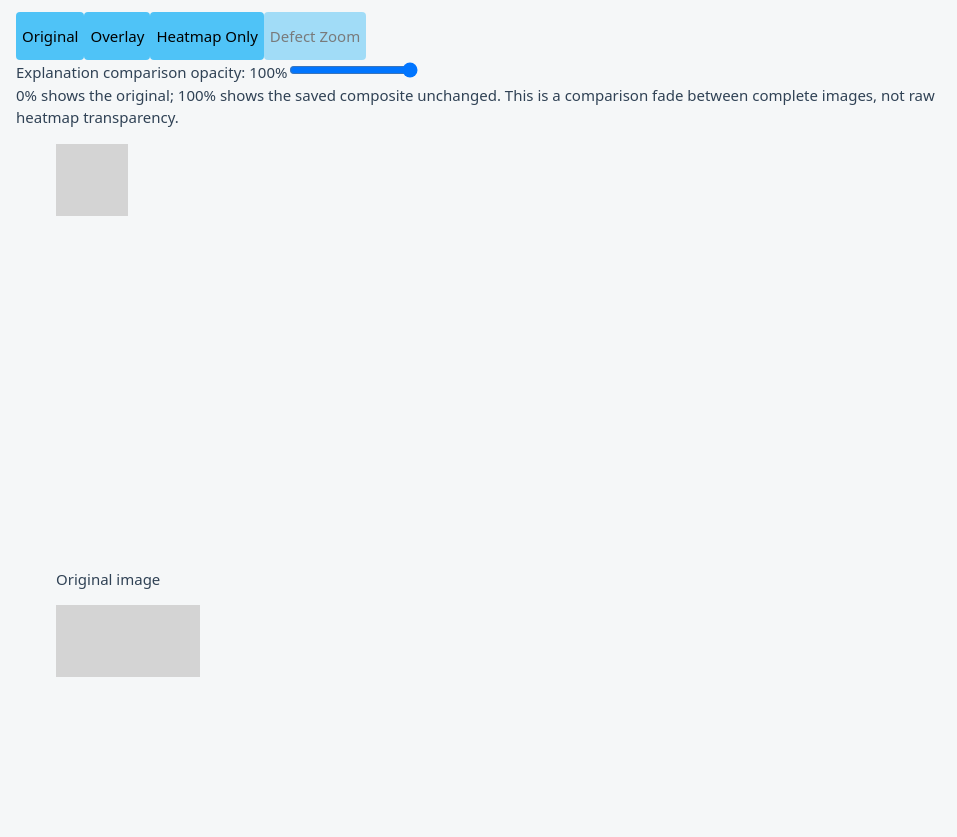
Test: XAI comparison modes › fails clearly when raw data dimensions mismatch, without showing a composite as raw
Click the button "Heatmap Only".
click(207, 36)  # box [150,12,264,60]
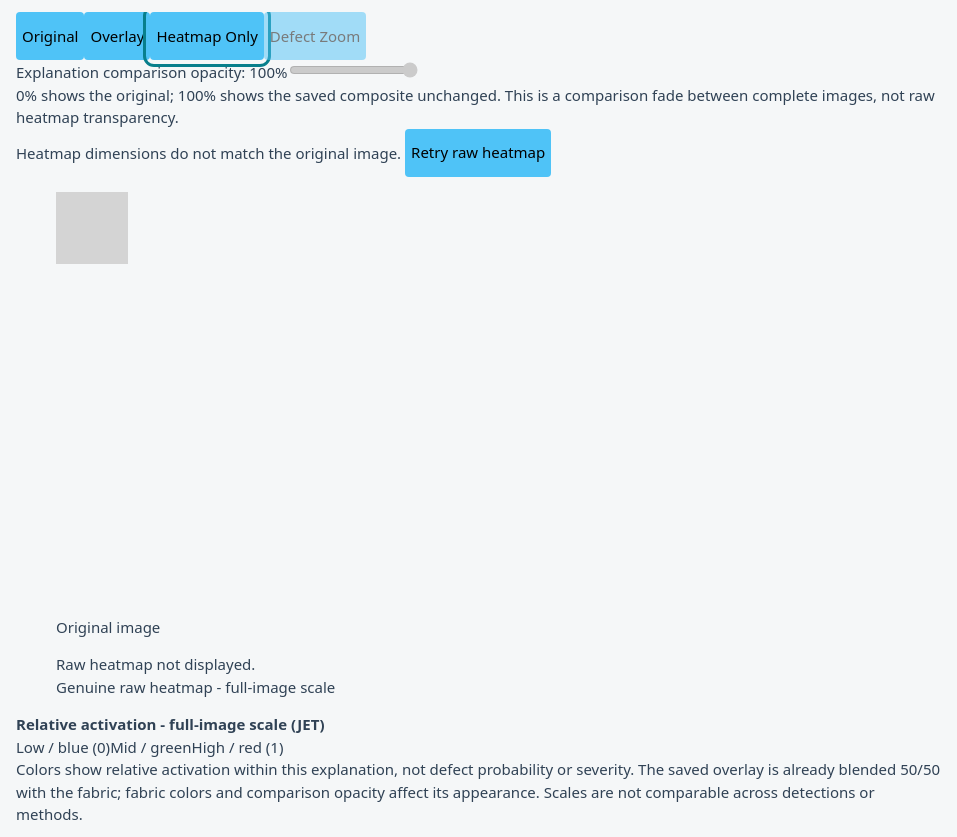
expect the message shows "dimensions": met, box [16,142,401,162]
